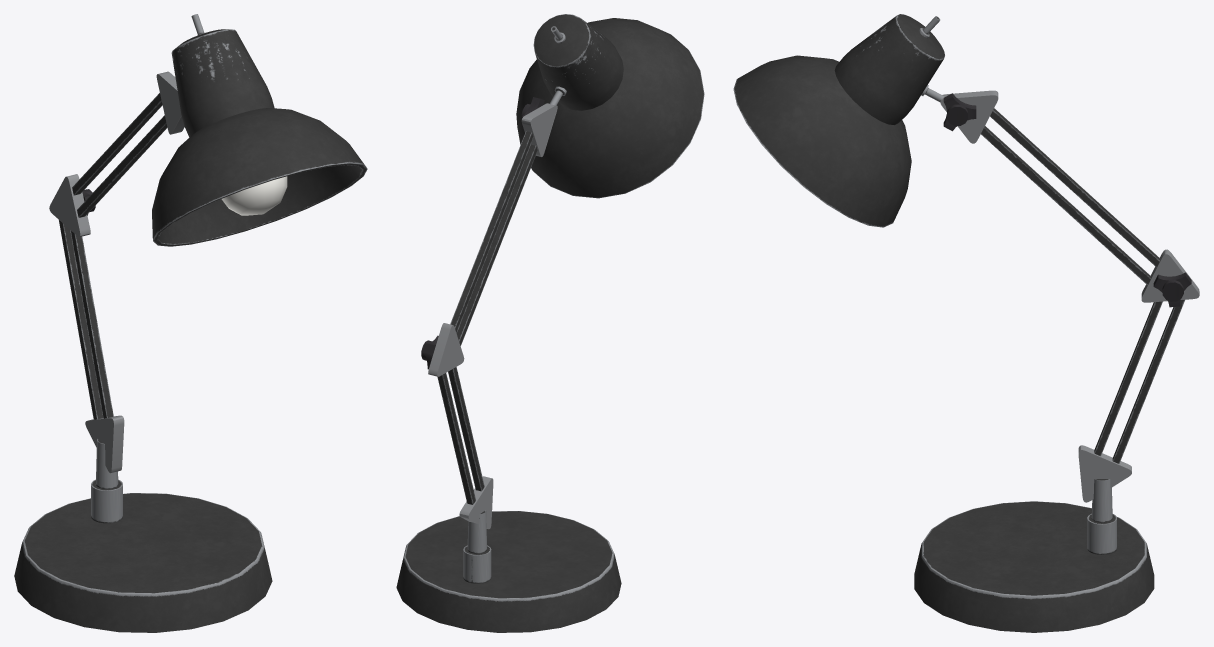
The model's file is desk_light.glb.
3 renders of one model, left to right at view 1: azimuth 30°, elevation 25°; view 2: azimuth 150°, elevation 25°; view 3: azimuth 270°, elevation 25°, orthographic. The views are drawn at different scales.
Visible parts, largest first — view 1: desk-light; view 2: desk-light; view 3: desk-light.
Boxes of the visible parts, x1,y1,x2,y2 form: desk-light: [14, 14, 367, 632]; desk-light: [396, 14, 704, 632]; desk-light: [733, 14, 1199, 632].
Bounding box in the file's own units: 39.19 × 101 × 75.35.
Materials: 1 (1 with a texture image).
